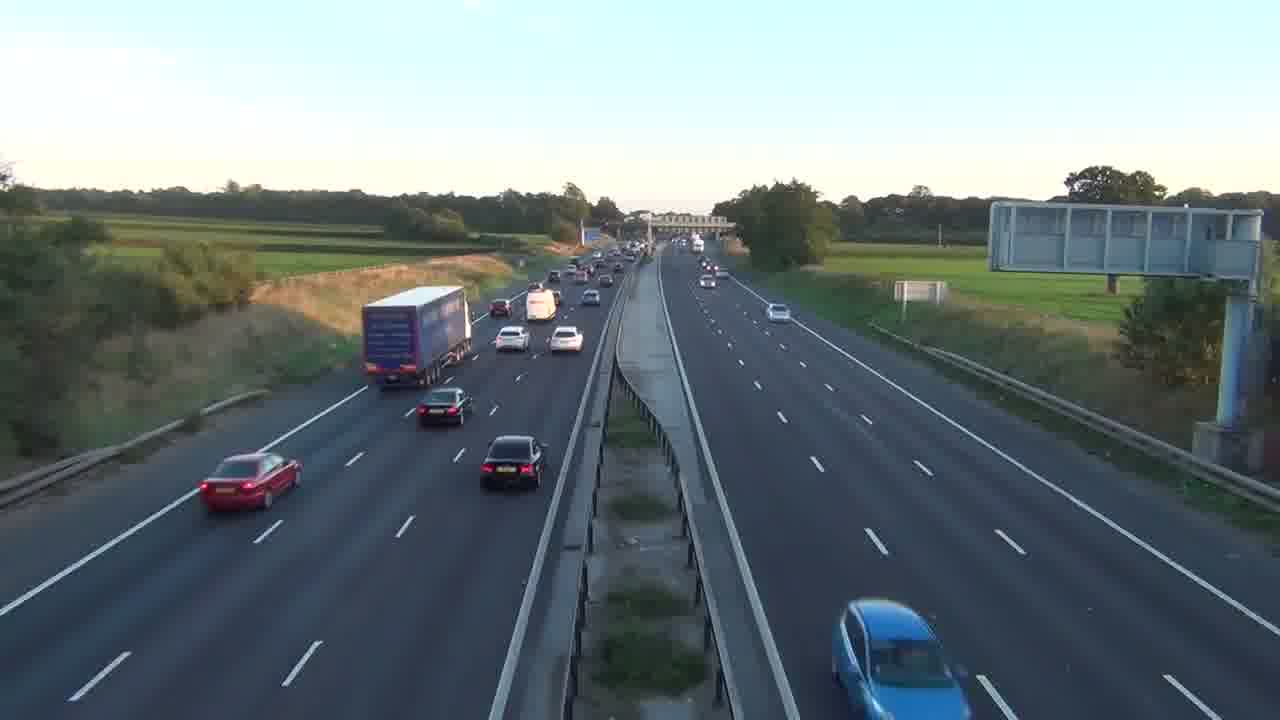car: (831, 597, 973, 719), (197, 451, 302, 514), (479, 433, 548, 491), (415, 387, 471, 427), (548, 325, 584, 355), (495, 325, 530, 352), (579, 288, 601, 306)
truck: (362, 284, 470, 389)
